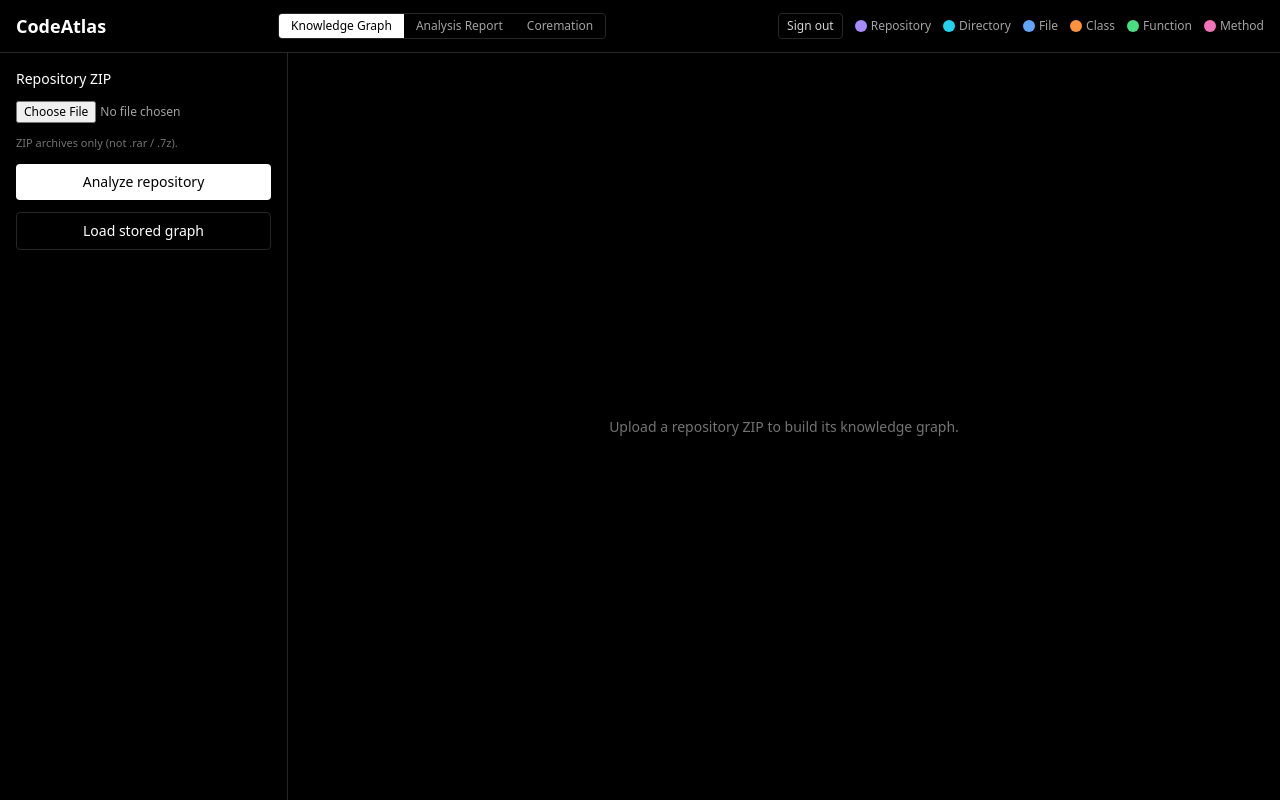
App Coremation tab (Build 05) › sits immediately after Analysis Report and renders the workflow
Earlier steps of the test are not shown.
Click the button "Analyze repository" at point(144, 182), box [16,164,271,200]
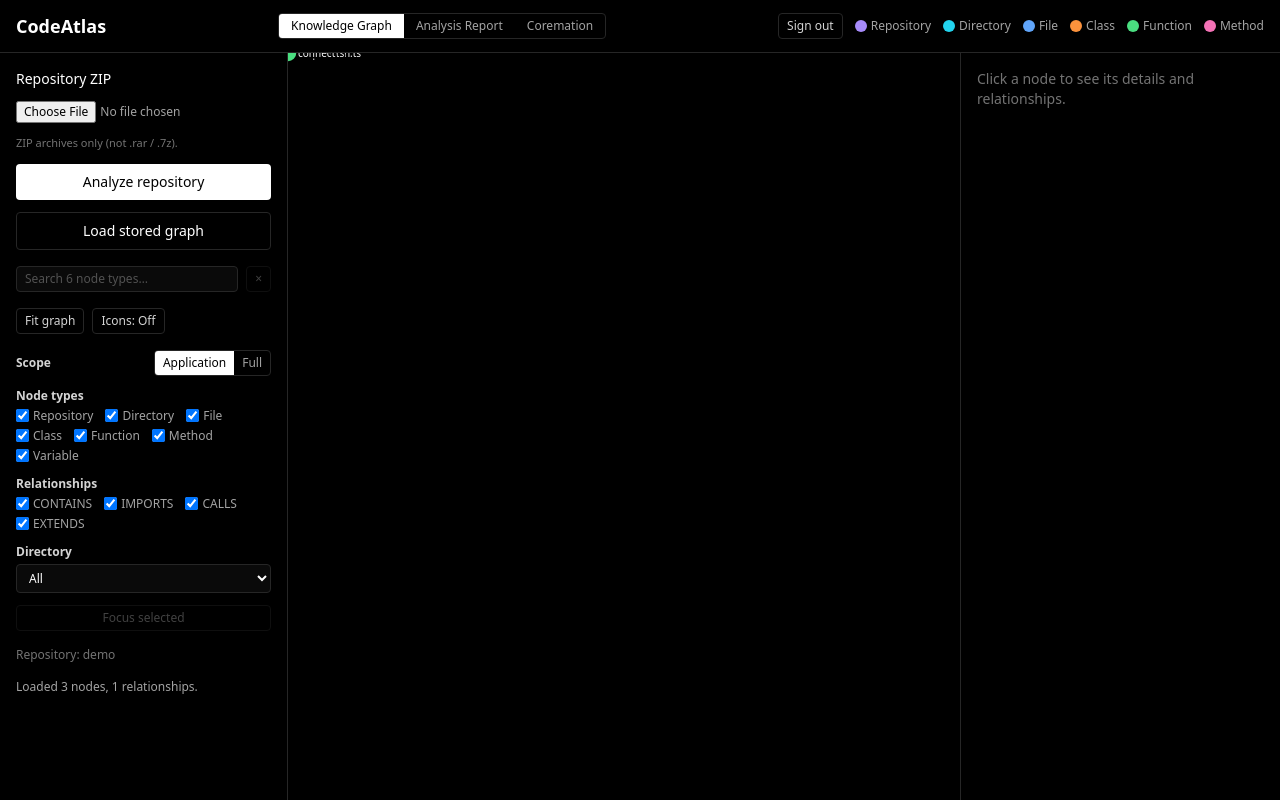
Expected: the field named "Search graph nodes" is shown, [16,266,238,292]
Click the button "Coremation" at point(560, 26), box [515,14,605,38]
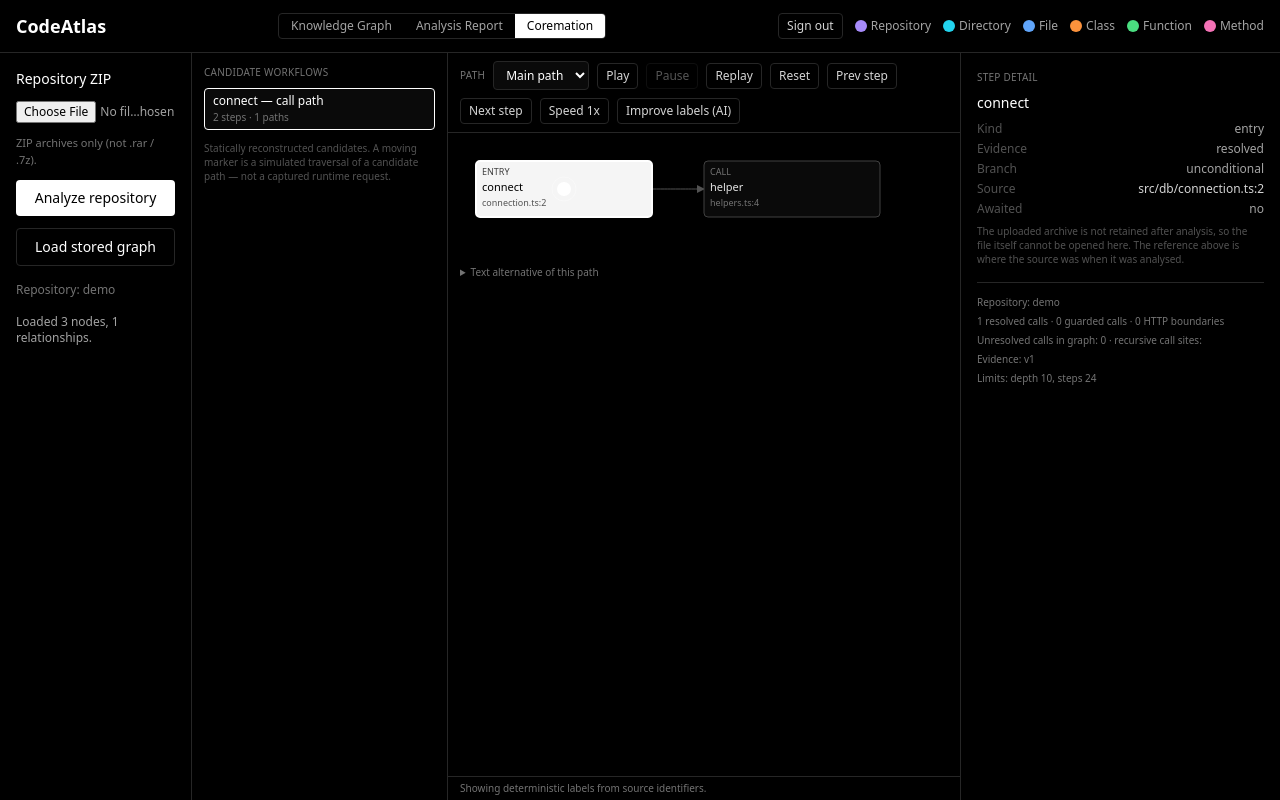
Expected: the text "connect — call path" is shown, [213,92,324,109]
Expected: the text "simulated traversal of a candidate path" is shown, [204,141,418,182]
